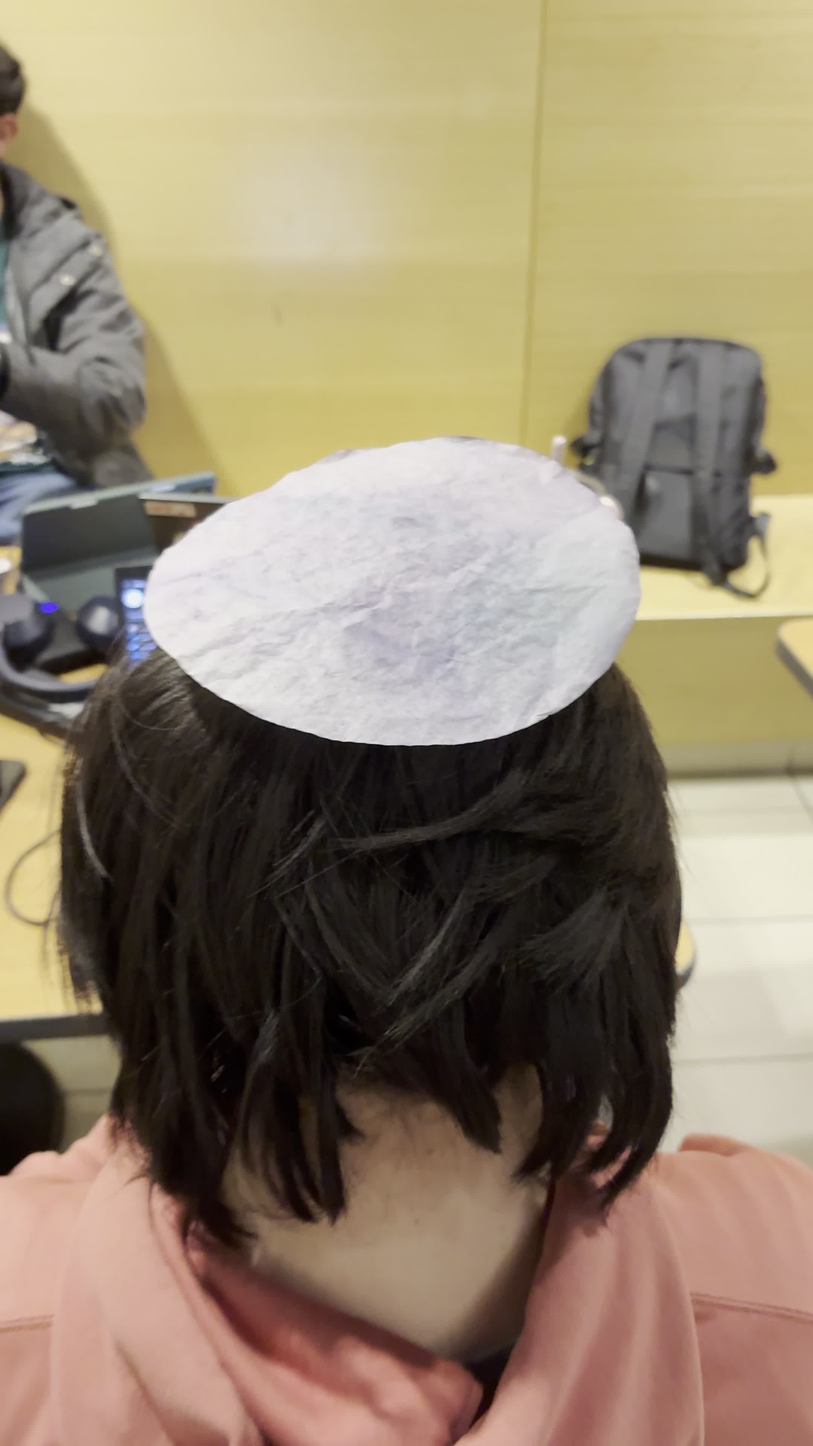Target: (139, 434, 643, 747)
